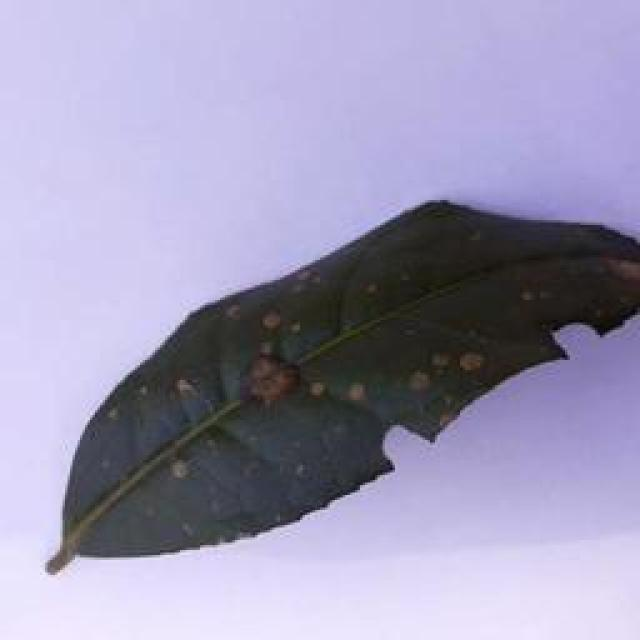Algal Leaf Spot: (45, 187, 640, 577)
